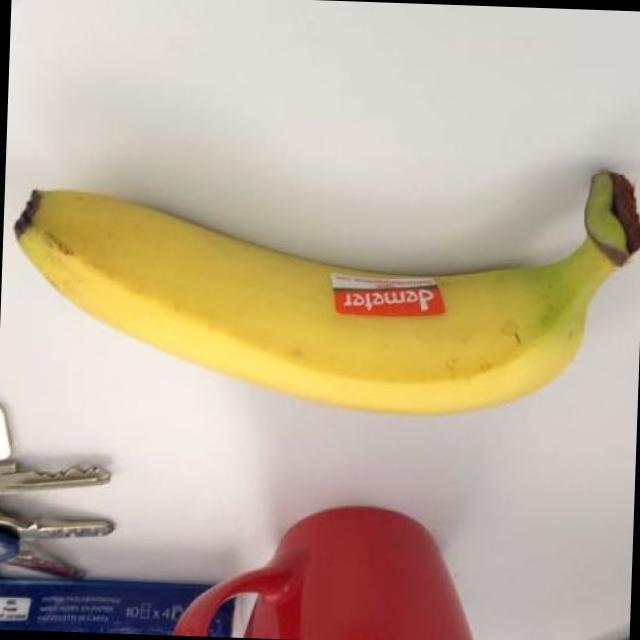Banana: (0, 129, 640, 431)
